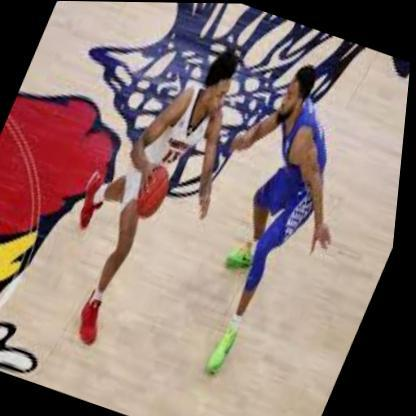basketball: (131, 162, 180, 223)
